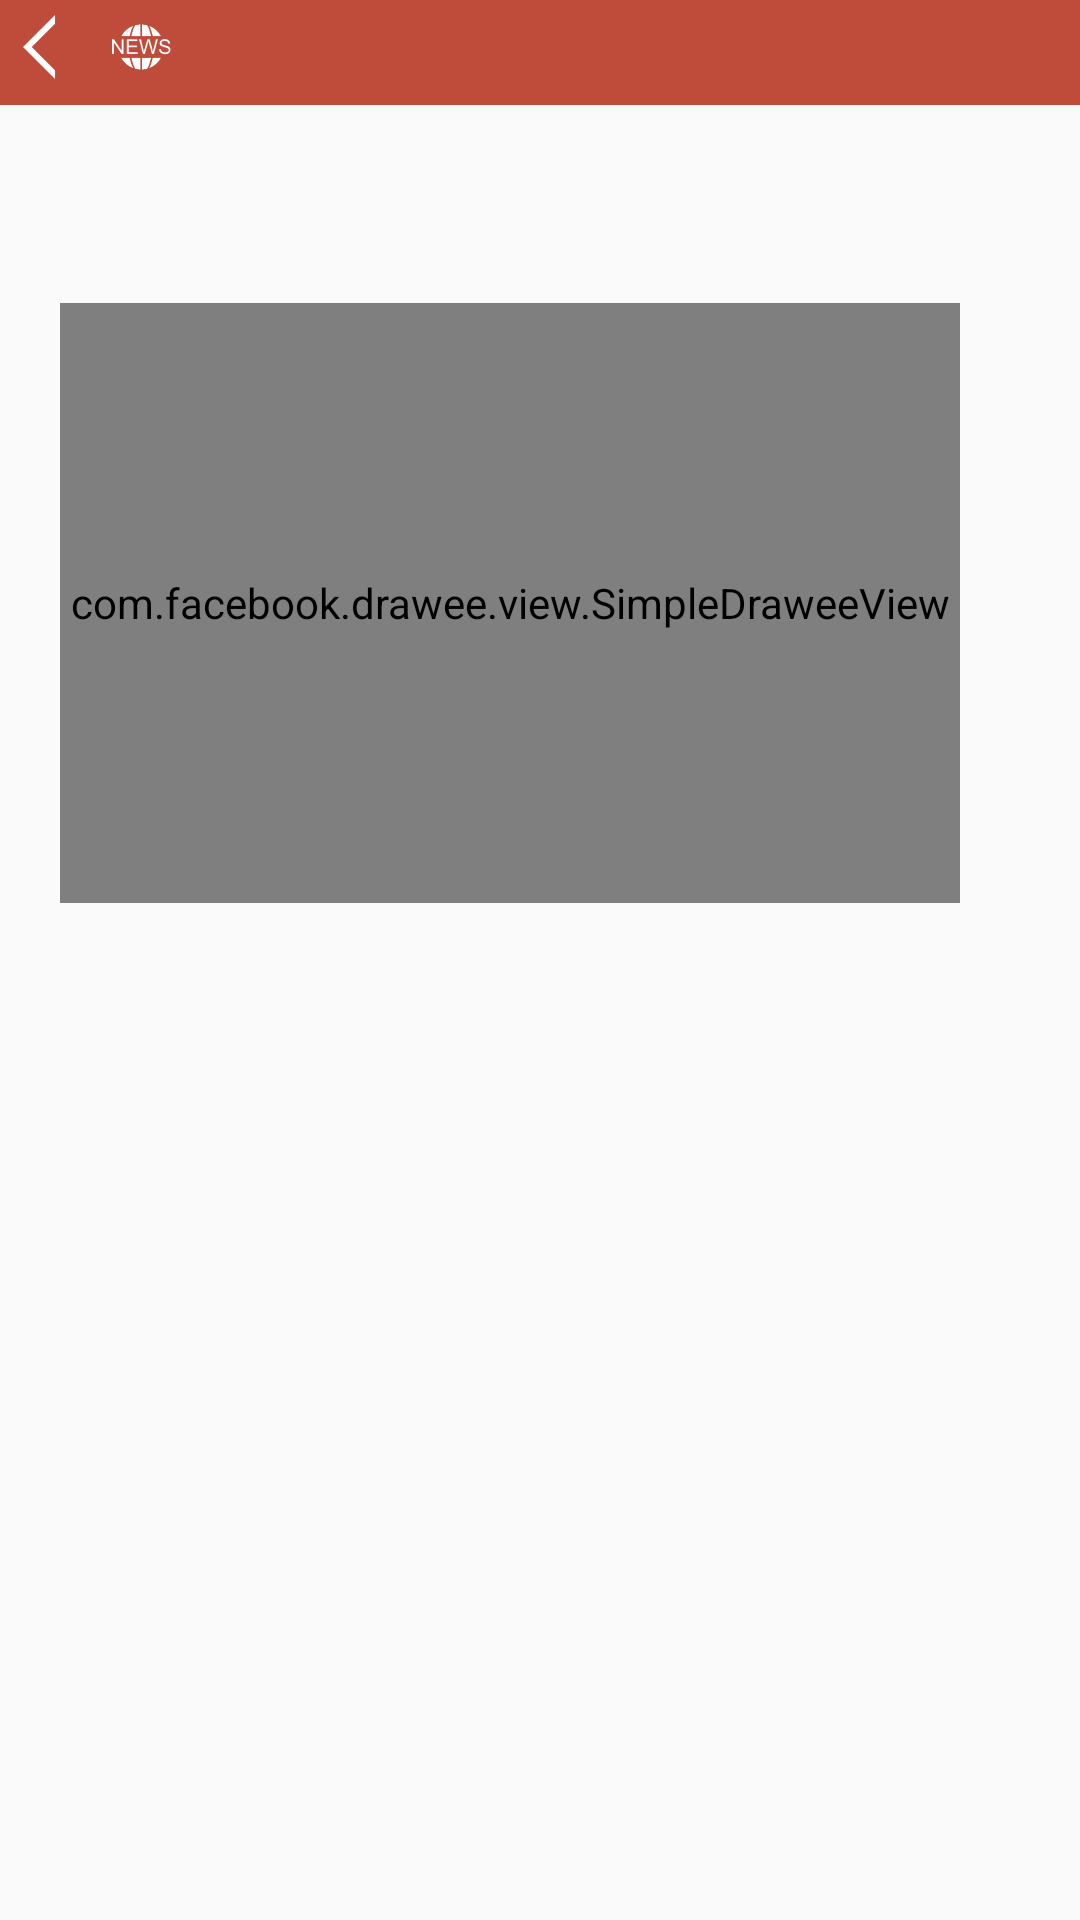

Icon bounding boxes for this 1080×1920 phone screenshot, format (left=x1, top=y1, right=x2, bottom=y2):
back: (left=23, top=15, right=55, bottom=79)
